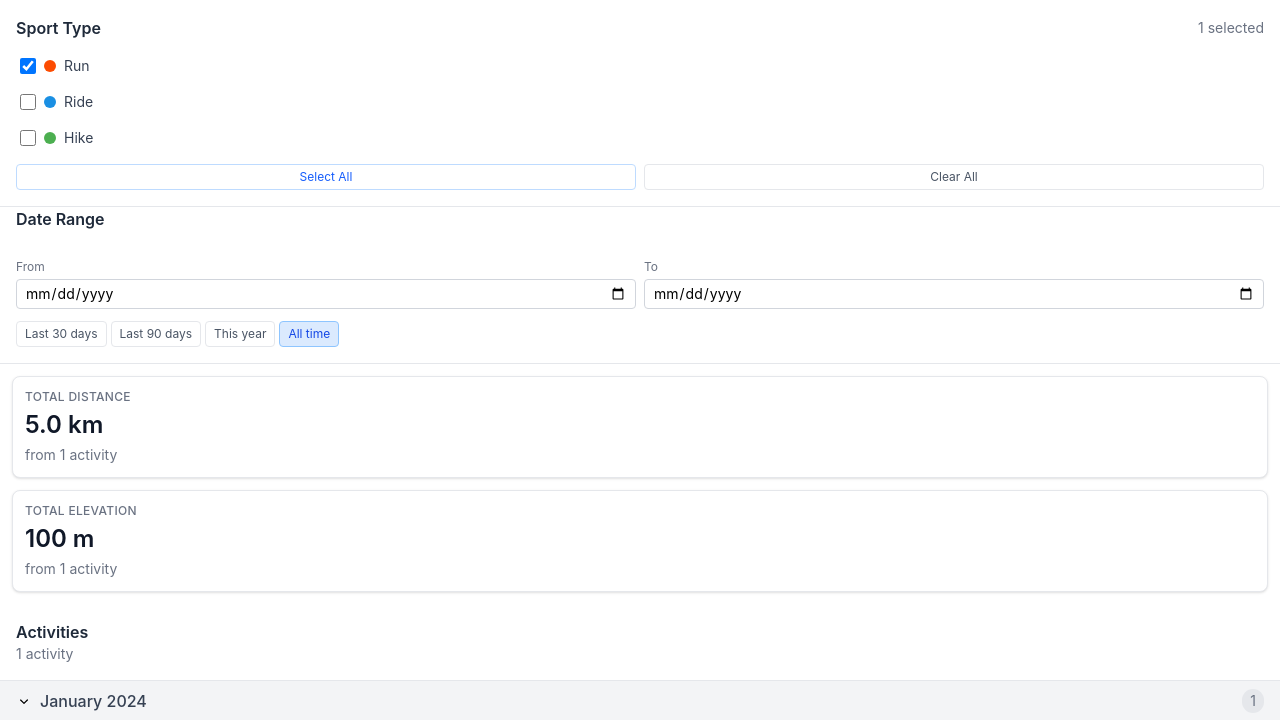
Scenario: SidebarPanel › clears filter when Clear All is clicked
What coordinates should you click on to do the following:
click the button "Clear All"
I would click on:
 (954, 177)
Its box is [644,164,1264,190].
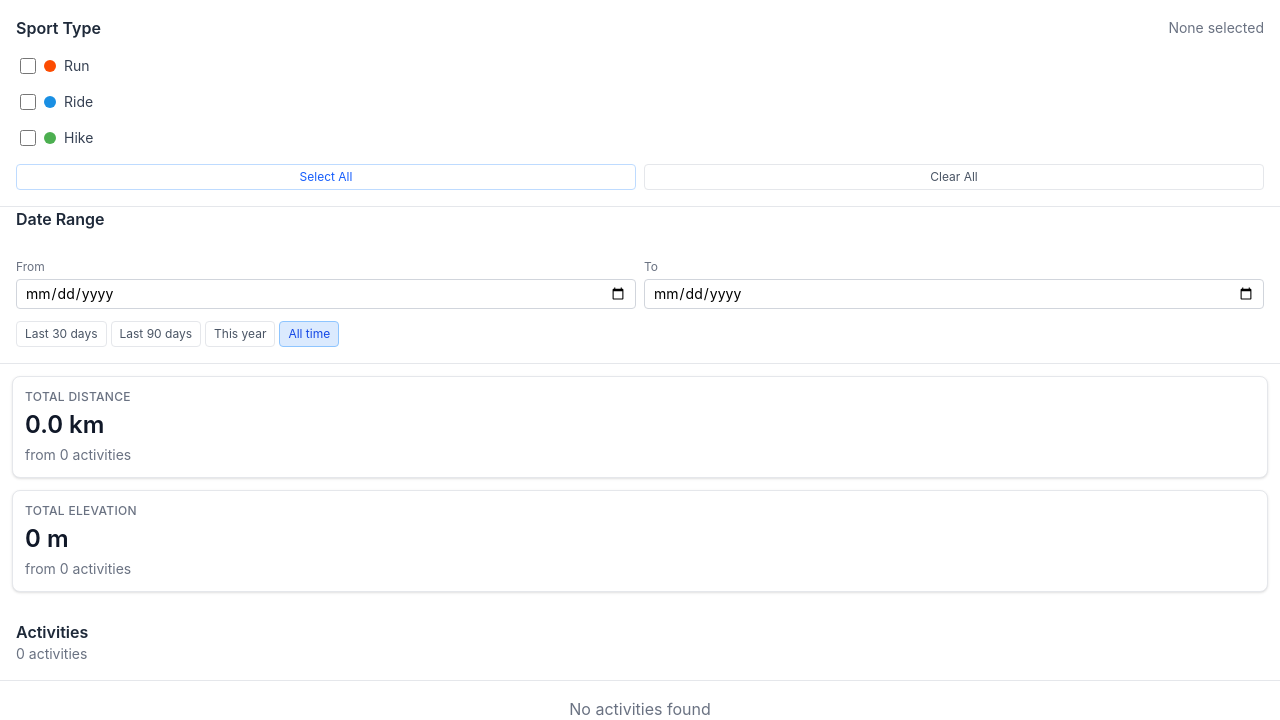
Expected: the text "0 activities" is shown, [16,645,87,662]
